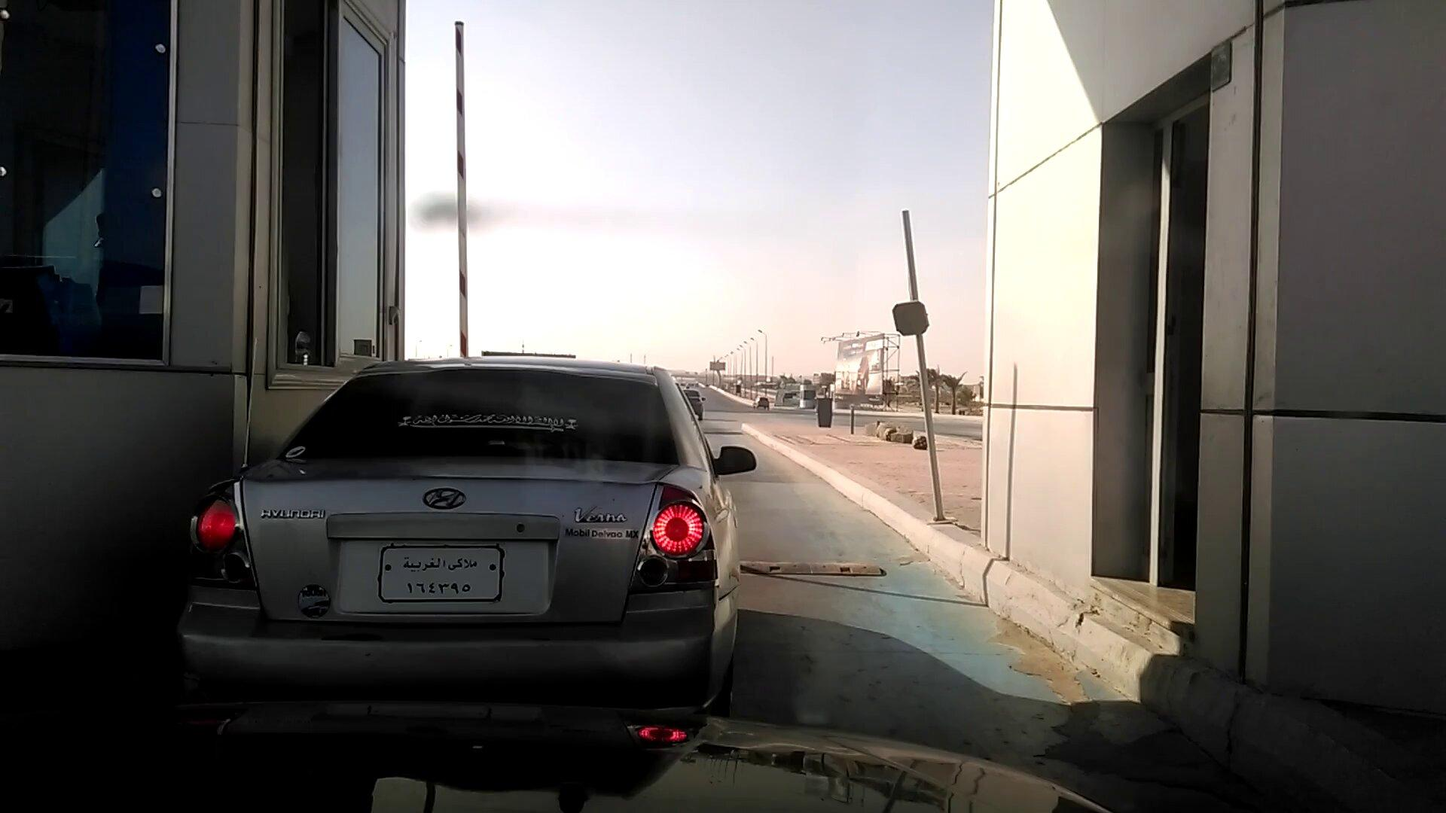Bump: (737, 556, 887, 579)
